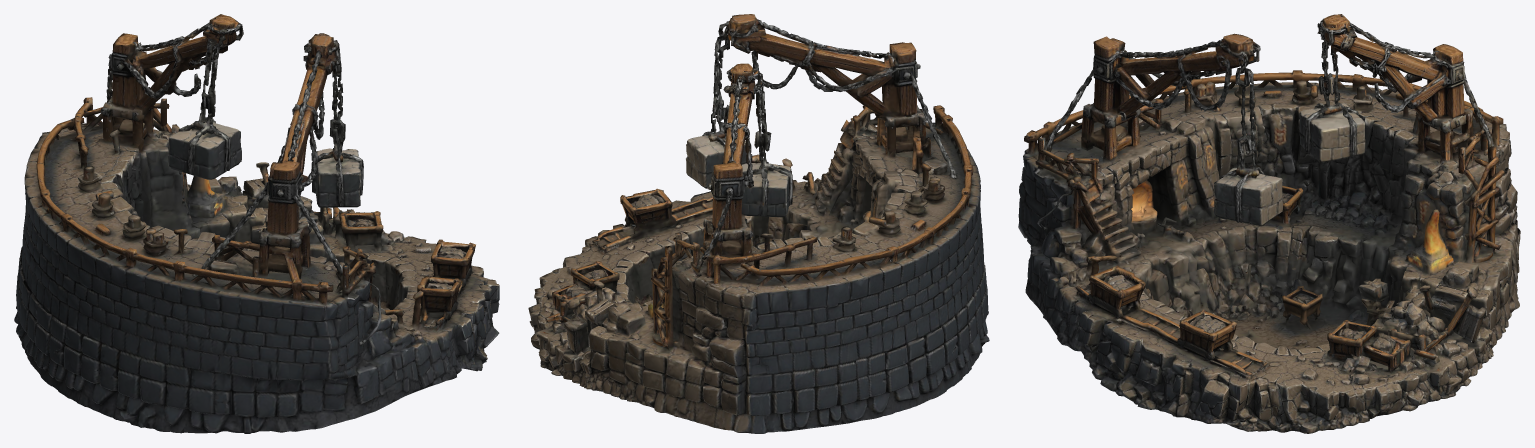
Rendered from tripo_convert_8407c831-9f23-4a3a-b3da-dc4f1e7d92a6.fbx.
3 views of the same model, side by side, from view 1: azimuth 30°, elevation 25°; view 2: azimuth 150°, elevation 25°; view 3: azimuth 270°, elevation 25° (orthographic). The views are drawn at different scales.
Visible parts, largest first — view 1: tripo_node_8407c831; view 2: tripo_node_8407c831; view 3: tripo_node_8407c831.
Part boxes in pixels (x1,y1,x2,y2): tripo_node_8407c831: (14,14,499,433); tripo_node_8407c831: (528,14,989,433); tripo_node_8407c831: (1018,14,1520,433).
Bounding box in the file's own units: 0.9303 × 0.6748 × 0.9811.
Materials: 1 (1 with a texture image).
